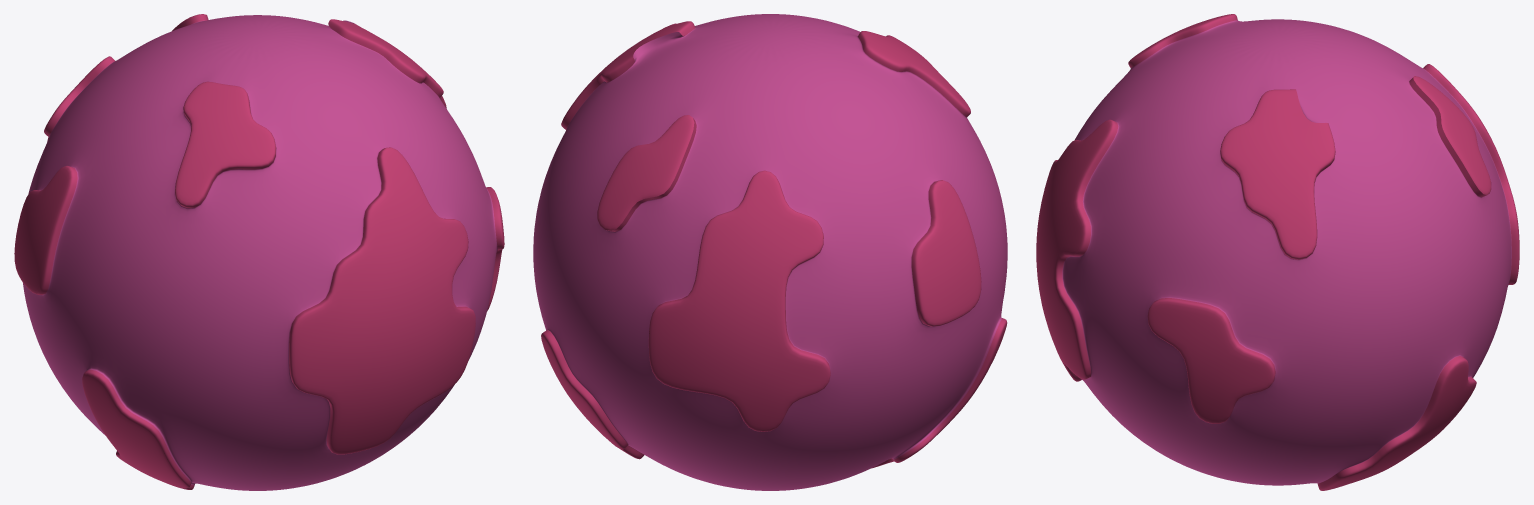
The model's file is planet1.fbx.
3 renders of one model, left to right at view 1: azimuth 30°, elevation 25°; view 2: azimuth 150°, elevation 25°; view 3: azimuth 270°, elevation 25°, orthographic. The views are drawn at different scales.
Visible parts, largest first — view 1: Sphere, Sphere.001; view 2: Sphere, Sphere.001; view 3: Sphere, Sphere.001.
Part boxes in pixels (left/top/right/bottom): Sphere: left=23, top=15, right=497, bottom=490; Sphere.001: left=14, top=14, right=504, bottom=489; Sphere: left=533, top=14, right=1007, bottom=490; Sphere.001: left=541, top=21, right=1007, bottom=468; Sphere: left=1062, top=19, right=1511, bottom=485; Sphere.001: left=1036, top=14, right=1519, bottom=490.
Size of the model in its own units: 400 by 388 by 400.
